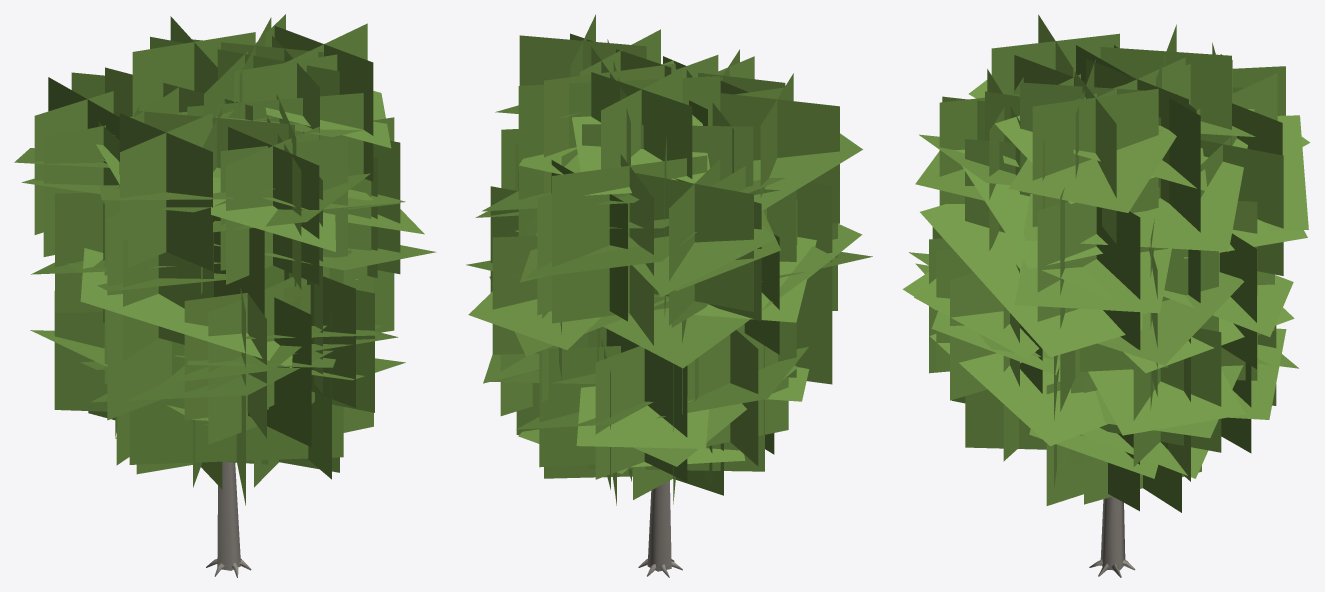
Rendered from tilleul_2_f3_loin.glb.
3 views of the same model, side by side, from view 1: azimuth 30°, elevation 25°; view 2: azimuth 150°, elevation 25°; view 3: azimuth 270°, elevation 25° (orthographic). The views are drawn at different scales.
Parts seen in each view (by area): view 1: Tilleul_T2_f3_Leger_Loin; view 2: Tilleul_T2_f3_Leger_Loin; view 3: Tilleul_T2_f3_Leger_Loin.
Part boxes in pixels (x1,y1,x2,y2): Tilleul_T2_f3_Leger_Loin: (14, 14, 436, 577); Tilleul_T2_f3_Leger_Loin: (466, 14, 872, 577); Tilleul_T2_f3_Leger_Loin: (902, 14, 1310, 577).
Size of the model in its own units: 8.24 by 11.15 by 8.02.
